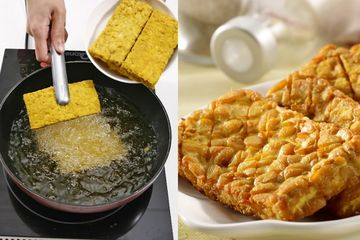Tempe: (181, 85, 332, 210)
